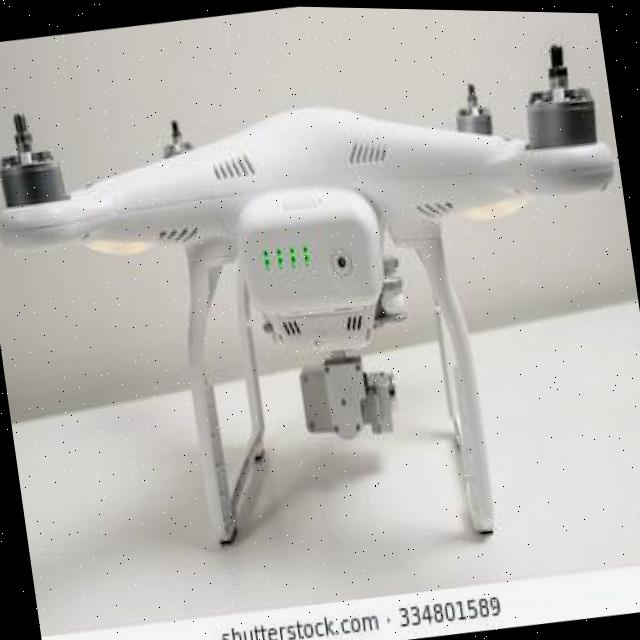drone: (0, 0, 640, 605)
